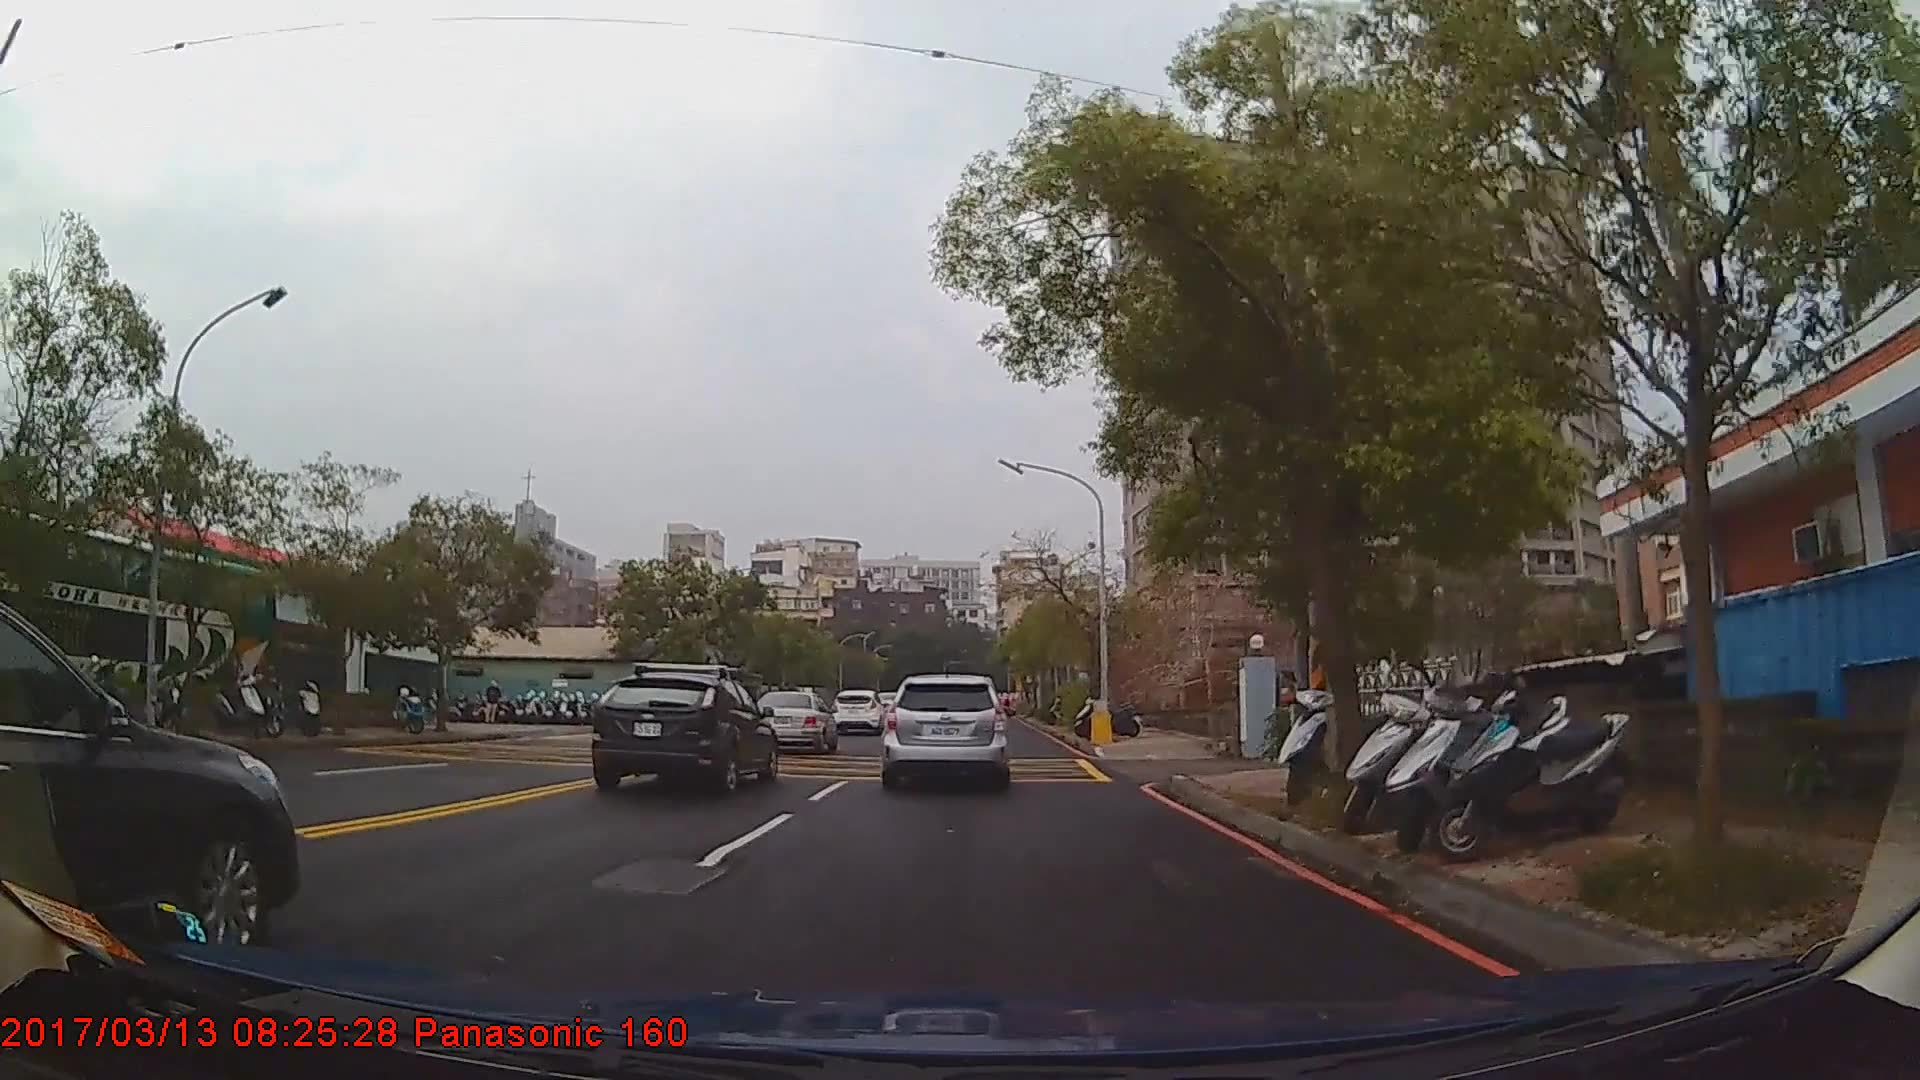vehicle: (0, 593, 298, 956), (0, 498, 272, 736), (587, 669, 775, 794), (882, 673, 1006, 789), (750, 687, 836, 753), (829, 687, 886, 733)
